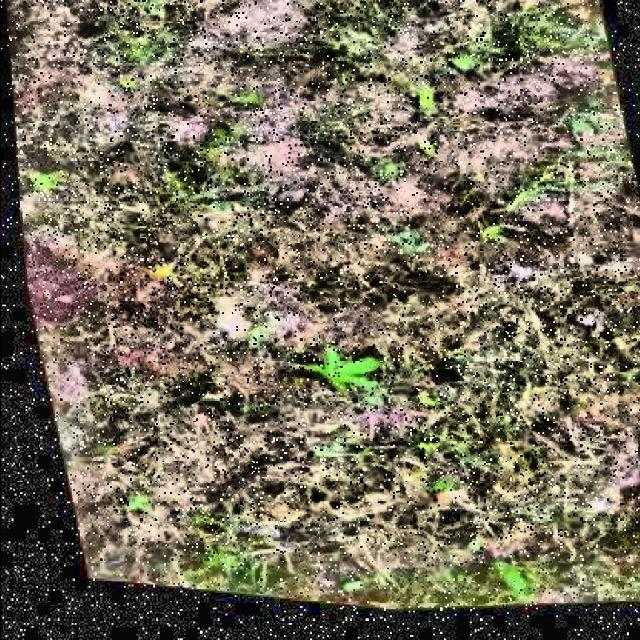Weeds: (292, 340, 379, 403)
